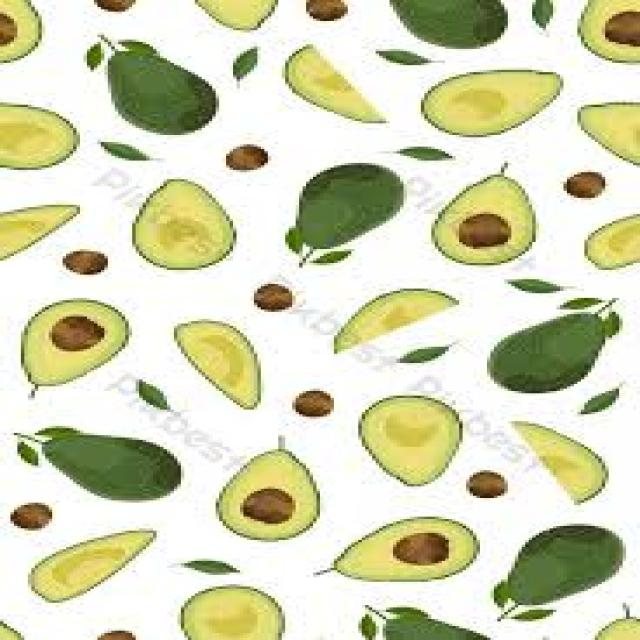avocado: (323, 385, 492, 501), (464, 287, 622, 408), (73, 30, 238, 137), (10, 414, 192, 508), (256, 31, 392, 149), (207, 436, 344, 544), (12, 514, 160, 612), (159, 300, 284, 414), (270, 160, 421, 253), (314, 269, 449, 372), (326, 509, 498, 584), (130, 165, 252, 270), (488, 422, 638, 504), (2, 288, 110, 400), (437, 167, 548, 270), (485, 523, 605, 618), (430, 65, 573, 140), (130, 580, 301, 640), (335, 593, 527, 640), (0, 184, 89, 276), (370, 0, 512, 57), (556, 0, 640, 72), (566, 210, 640, 284), (581, 93, 640, 172), (0, 0, 50, 70)
